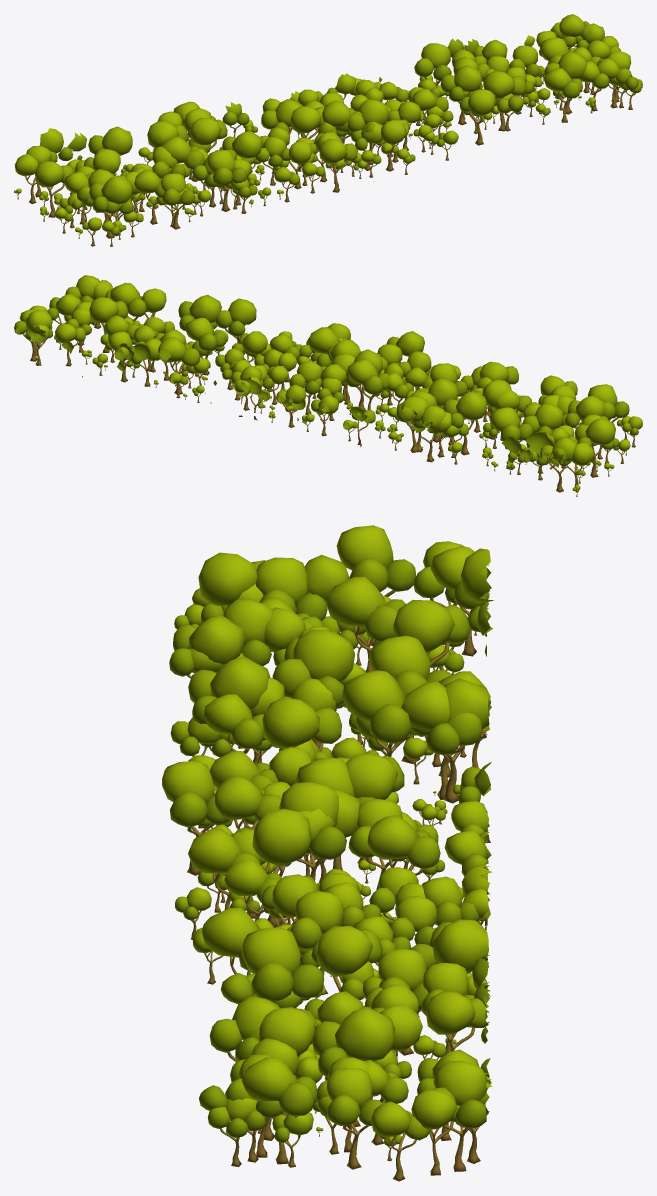
3 views of the same model, one above another, from view 1: azimuth 30°, elevation 25°; view 2: azimuth 150°, elevation 25°; view 3: azimuth 270°, elevation 25° (orthographic). The views are drawn at different scales.
Visible parts, largest first — view 1: Tree Part 1; view 2: Tree Part 1; view 3: Tree Part 1.
Part boxes in pixels (x1=…): Tree Part 1: x1=14, y1=14, x2=642, y2=246; Tree Part 1: x1=14, y1=275, x2=642, y2=496; Tree Part 1: x1=162, y1=525, x2=494, y2=1181.
Bounding box in the file's own units: 10439 × 1023 × 2611.
1 material, 1 textured.
